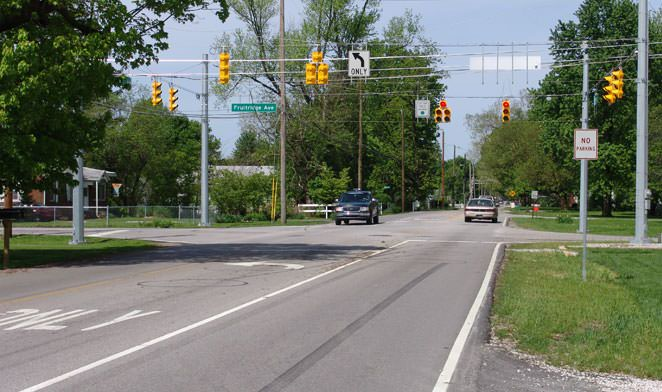traffic_light: (433, 98, 453, 125), (500, 99, 512, 124)
